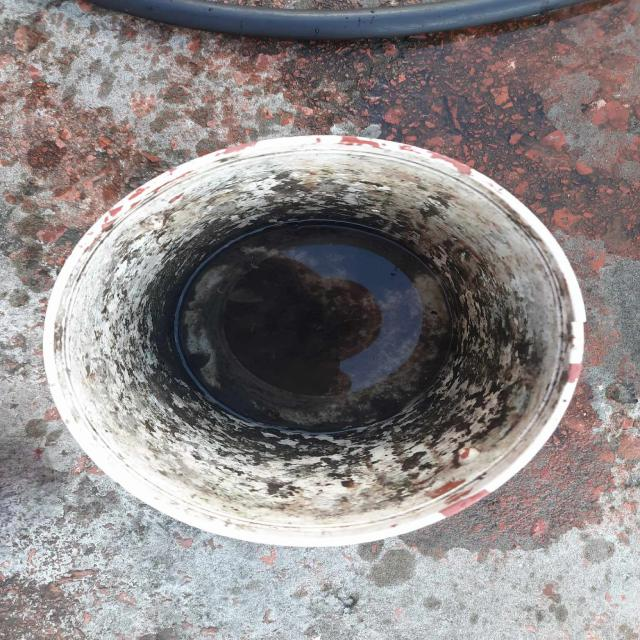Breeding Place: (31, 112, 607, 560)
